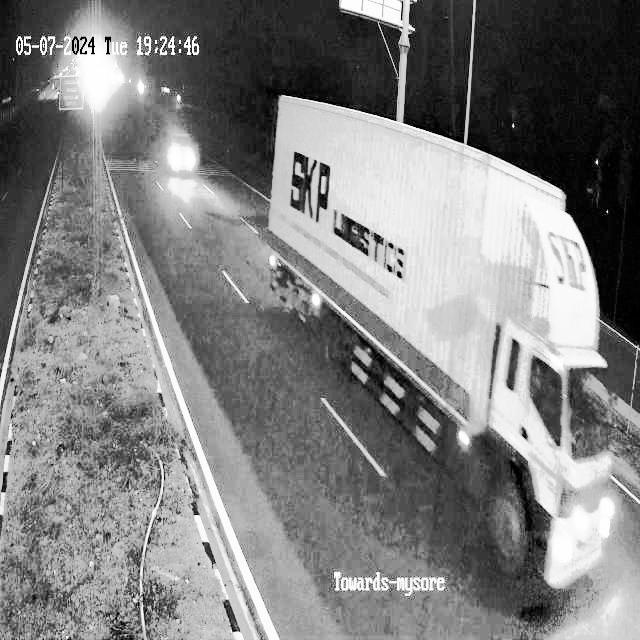Truck: (262, 92, 624, 609)
